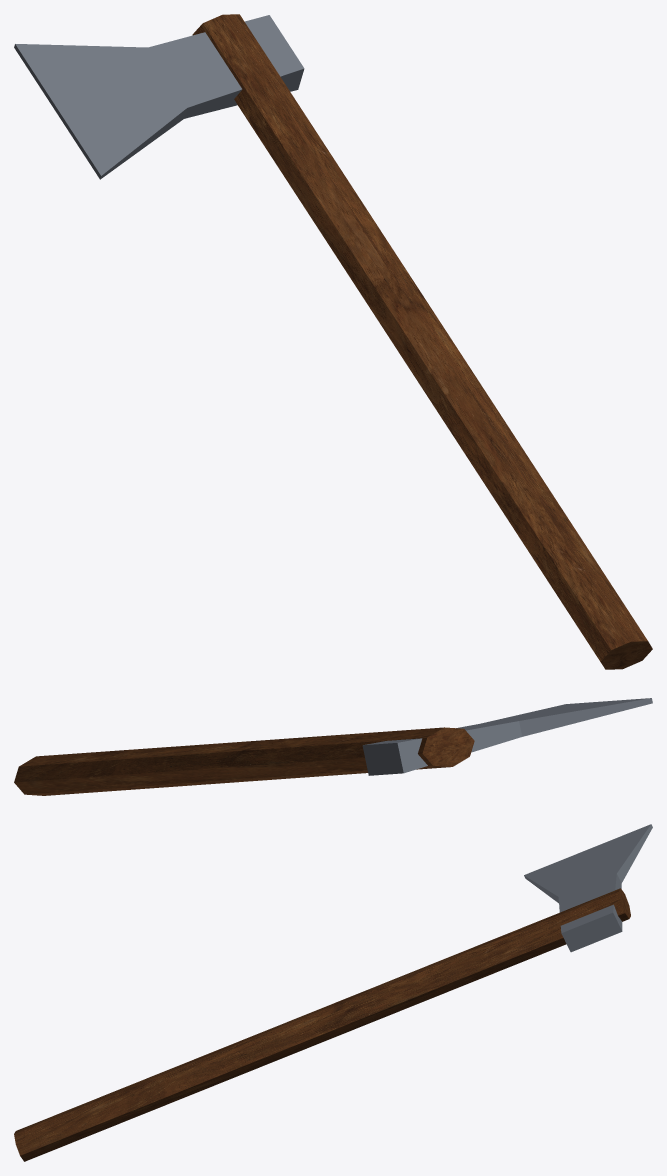
The model's file is Axe.glb.
3 renders of one model, top to bottom at view 1: azimuth 30°, elevation 25°; view 2: azimuth 210°, elevation 25°; view 3: azimuth 270°, elevation 25°, orthographic. The views are drawn at different scales.
Visible parts, largest first — view 1: Cylinder, Cube; view 2: Cylinder, Cube; view 3: Cylinder, Cube.
Boxes of the visible parts, x1,y1,x2,y2 form: Cylinder: (192,14,652,669); Cube: (14,15,304,179); Cylinder: (14,727,474,795); Cube: (362,698,652,775); Cylinder: (14,888,630,1161); Cube: (524,824,652,952).
Bounding box in the file's own units: 0.1634 × 0.247 × 0.5341.
Materials: 2 (1 with a texture image).
